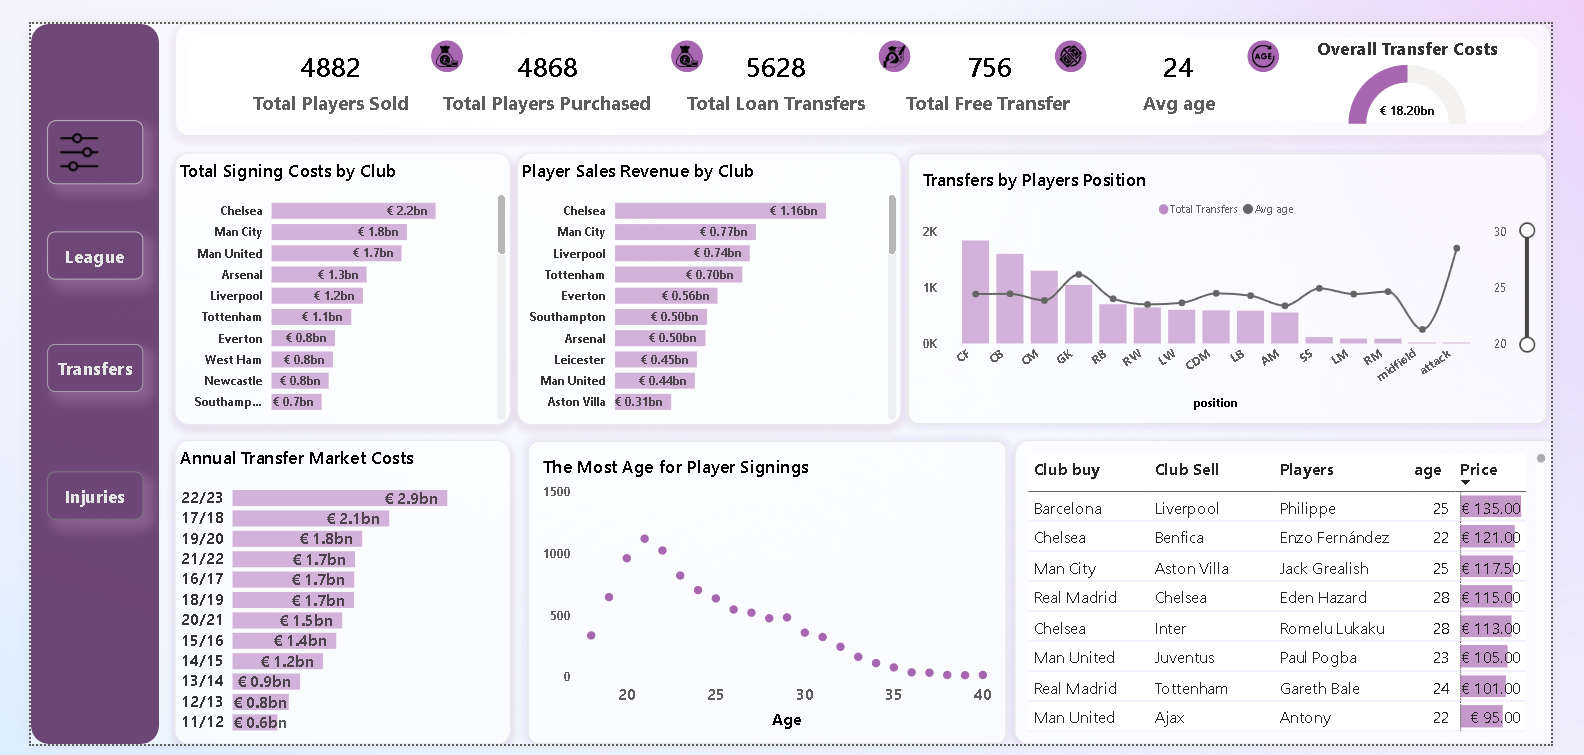

What the dashboard file says about the page in this screenshot:
{"tool":"powerbi","page":{"name":"Transfers","canvas":[1520,720],"ordinal":1},"visuals":[{"type":"group","id":"g1","title":"filter pane transfer","box":[0,0,1248,720],"z":0},{"type":"shape","box":[0,0,128,720],"z":0,"group":"g1"},{"type":"image","box":[1216,16,32,32],"z":1000,"group":"g1"},{"type":"actionButton","box":[16,96,96,64],"z":1000},{"type":"shape","title":"Cards Pane","box":[144,0,1376,112],"z":2000},{"type":"actionButton","box":[16,208,96,48],"z":2000,"group":"g1"},{"type":"gauge","fields":{"Y":["Trasnfer Measure.Total Cost Transfer buy"]},"box":[1232,0,288,112],"z":3000},{"type":"actionButton","box":[16,448,96,48],"z":3000,"group":"g1"},{"type":"actionButton","box":[16,320,96,48],"z":4000,"group":"g1"},{"type":"tableEx","fields":{"Values":["fact_transfer.buying_club_name","fact_transfer.selling_club_name","dim_player.player_name","fact_transfer.age","fact_transfer.transfer_fee"]},"box":[984,416,544,304],"z":4000},{"type":"lineChart","title":"The Most Age for Player Signings","fields":{"Y":["Trasnfer Measure.Total Transfers"],"Category":["fact_transfer.age"]},"box":[496,416,480,304],"z":5000},{"type":"card","fields":{"Values":["Trasnfer Measure.Transfers In(Players Bought)"]},"box":[396.8,0,240,112],"z":6000},{"type":"barChart","title":"Total Signing Costs by Club","fields":{"Category":["fact_transfer.buying_club_name"],"Y":["Trasnfer Measure.Total Cost Transfer buy"]},"box":[144,128.2,336,272],"z":7000},{"type":"card","fields":{"Values":["Trasnfer Measure.Transfers Out(players sold)"]},"box":[208,0,184,112],"z":8000},{"type":"card","fields":{"Values":["Trasnfer Measure.Total Transfer Loan"]},"box":[641.6,0,208,112],"z":9000},{"type":"card","fields":{"Values":["Trasnfer Measure.Total Transfer Free"]},"box":[854.4,0,208,112],"z":10000},{"type":"shape","box":[400,16,32,32],"z":11000},{"type":"shape","box":[640,16,32,32],"z":12000},{"type":"lineClusteredColumnComboChart","title":"Transfers by Players Position","fields":{"Category":["dim_player.position"],"Y":["Trasnfer Measure.Total Transfers"],"Y2":["Trasnfer Measure.Avg age"]},"box":[876.8,128.2,640,272],"z":13000},{"type":"barChart","title":"Annual Transfer Market Costs","fields":{"Category":["dim_season.season"],"Y":["Trasnfer Measure.Total Cost Transfer buy"]},"box":[144,416,336,304],"z":14000},{"type":"image","box":[400,16,32,32],"z":15000},{"type":"image","box":[640,16,32,32],"z":16000},{"type":"shape","box":[848,16,32,32],"z":17000},{"type":"shape","box":[1024,16,32,32],"z":18000},{"type":"image","box":[848,16,32,32],"z":19000},{"type":"image","box":[1024,16,32,32],"z":20000},{"type":"card","fields":{"Values":["Trasnfer Measure.Avg age"]},"box":[1067.2,0,160,112],"z":21000},{"type":"shape","box":[1216,16,32,32],"z":22000},{"type":"barChart","title":"Player Sales Revenue by Club","fields":{"Category":["fact_transfer.selling_club_name"],"Y":["Trasnfer Measure.Total Cost Transfer Sold"]},"box":[486.4,128.2,384,272],"z":23000},{"type":"image","box":[1216,16,32,32],"z":26000}]}

Visuals, with their boxes on the page's 1520x720 design canvas (x1, y1, x2, y2). These are canvas units, not pixel positions in the 1584x755 screenshot, which may show the page scaled, cropped or inside an application window:
"filter pane transfer" group: bbox(0, 0, 1248, 720)
shape: bbox(0, 0, 128, 720)
image: bbox(1216, 16, 1248, 48)
actionButton: bbox(16, 96, 112, 160)
"Cards Pane" shape: bbox(144, 0, 1520, 112)
actionButton: bbox(16, 208, 112, 256)
gauge - Trasnfer Measure.Total Cost Transfer buy: bbox(1232, 0, 1520, 112)
actionButton: bbox(16, 448, 112, 496)
actionButton: bbox(16, 320, 112, 368)
tableEx - fact_transfer.buying_club_name x fact_transfer.selling_club_name: bbox(984, 416, 1528, 720)
"The Most Age for Player Signings" lineChart: bbox(496, 416, 976, 720)
card - Trasnfer Measure.Transfers In(Players Bought): bbox(397, 0, 637, 112)
"Total Signing Costs by Club" barChart: bbox(144, 128, 480, 400)
card - Trasnfer Measure.Transfers Out(players sold): bbox(208, 0, 392, 112)
card - Trasnfer Measure.Total Transfer Loan: bbox(642, 0, 850, 112)
card - Trasnfer Measure.Total Transfer Free: bbox(854, 0, 1062, 112)
shape: bbox(400, 16, 432, 48)
shape: bbox(640, 16, 672, 48)
"Transfers by Players Position" lineClusteredColumnComboChart: bbox(877, 128, 1517, 400)
"Annual Transfer Market Costs" barChart: bbox(144, 416, 480, 720)
image: bbox(400, 16, 432, 48)
image: bbox(640, 16, 672, 48)
shape: bbox(848, 16, 880, 48)
shape: bbox(1024, 16, 1056, 48)
image: bbox(848, 16, 880, 48)
image: bbox(1024, 16, 1056, 48)
card - Trasnfer Measure.Avg age: bbox(1067, 0, 1227, 112)
shape: bbox(1216, 16, 1248, 48)
"Player Sales Revenue by Club" barChart: bbox(486, 128, 870, 400)
image: bbox(1216, 16, 1248, 48)
